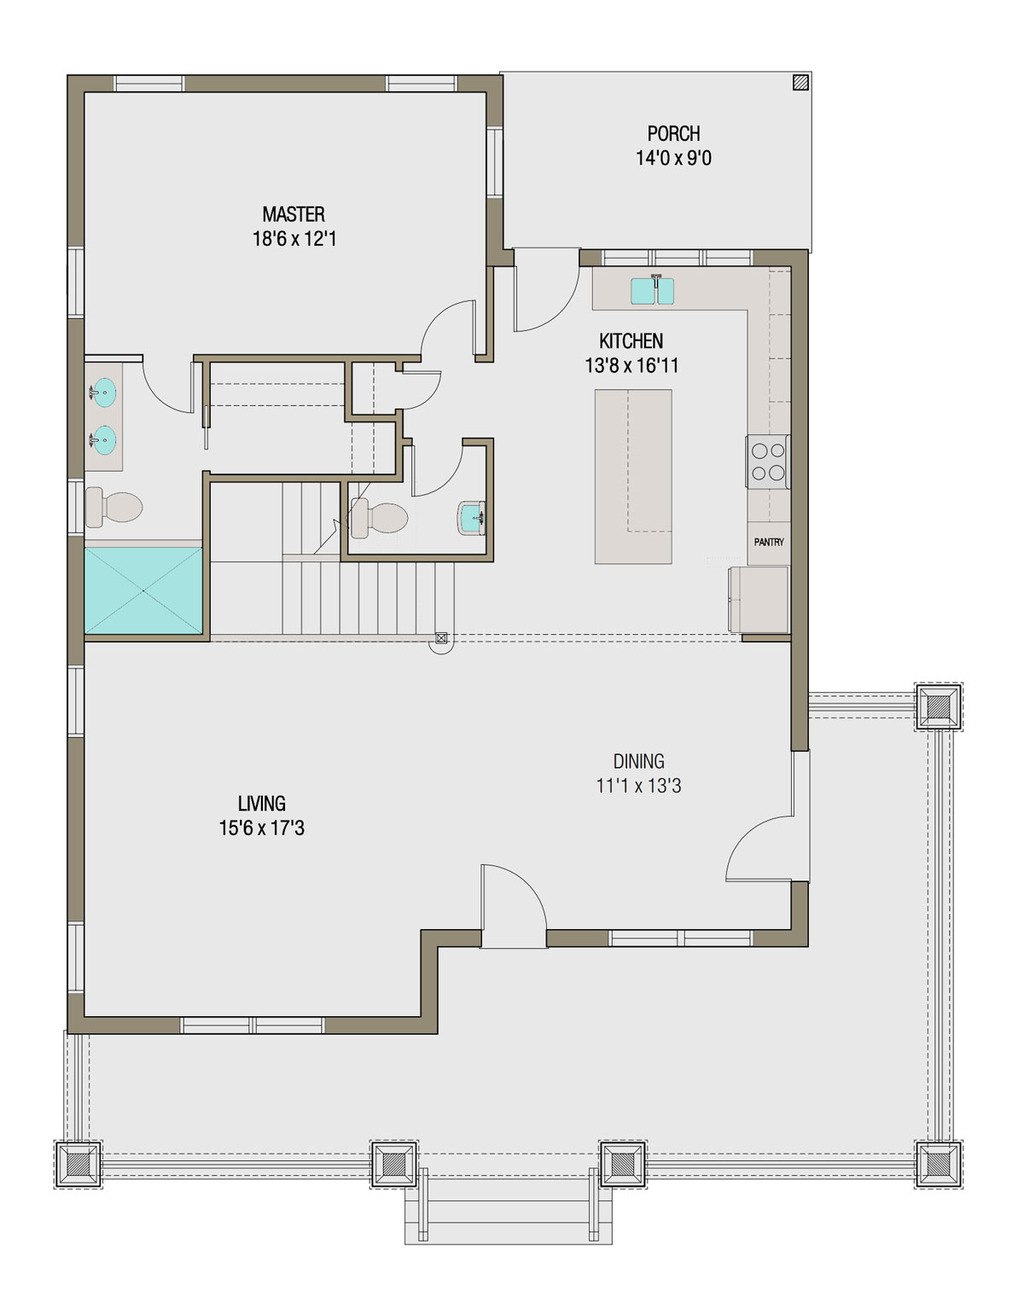door: (721, 810, 827, 895), (497, 247, 585, 343), (481, 849, 563, 949), (375, 355, 453, 425), (405, 295, 479, 361), (135, 351, 193, 413)
kitchen_bar: (587, 373, 719, 565)
large_sink: (341, 483, 429, 553), (83, 483, 157, 539)
small_sink: (85, 361, 131, 469), (447, 495, 509, 543)
stairs: (207, 485, 467, 663)
twin_sink: (615, 261, 701, 321)
window: (169, 1009, 333, 1043), (611, 923, 745, 955), (61, 657, 93, 743), (477, 120, 513, 196), (55, 913, 87, 996), (61, 249, 95, 319), (107, 69, 193, 95), (381, 75, 455, 97)
